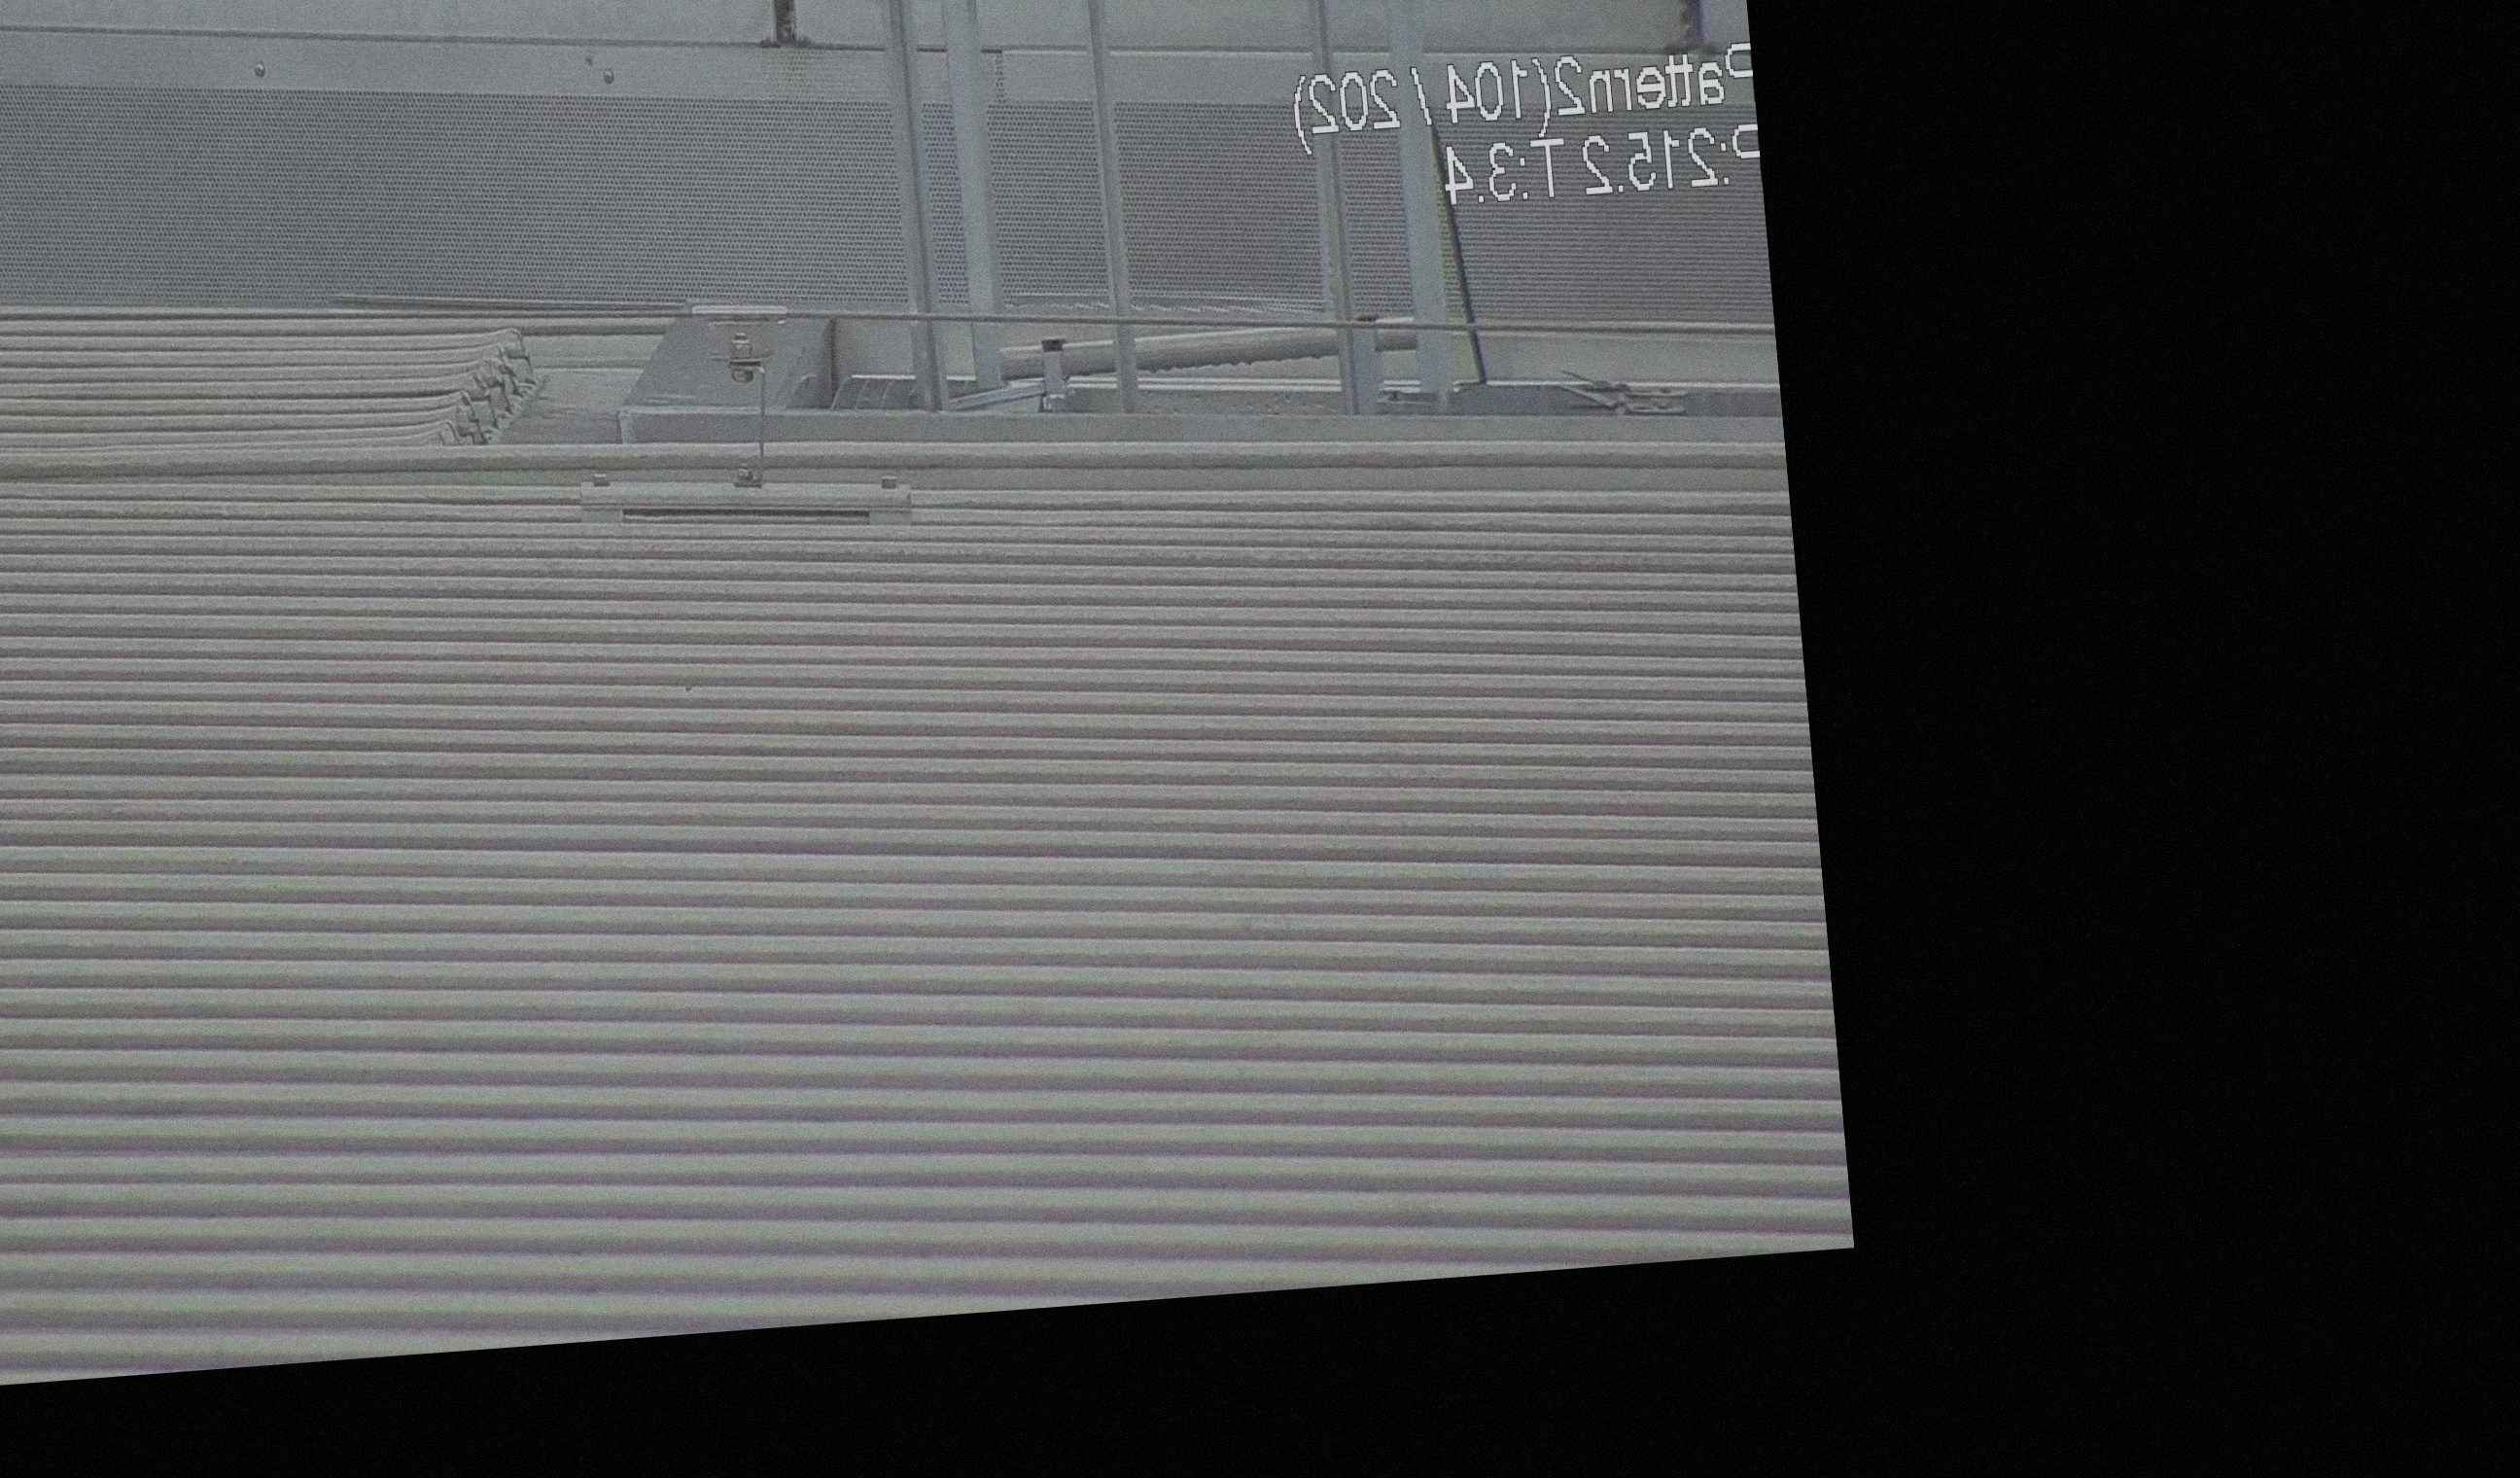Other: (737, 0, 844, 49)
